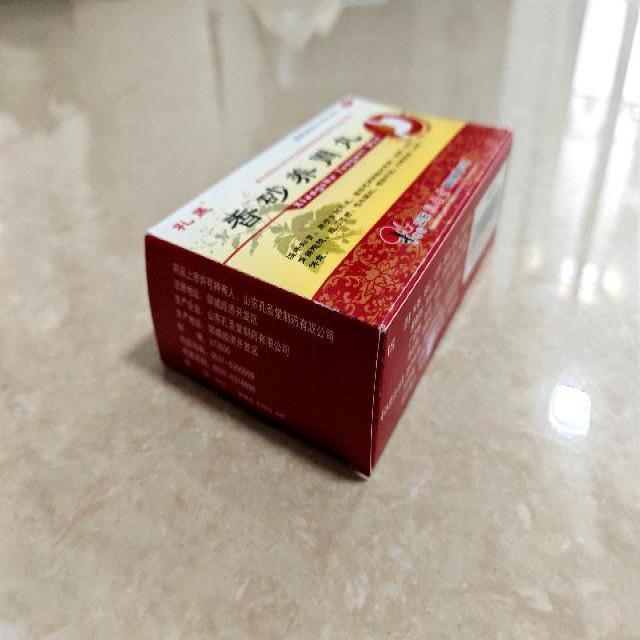box: (145, 96, 513, 475)
